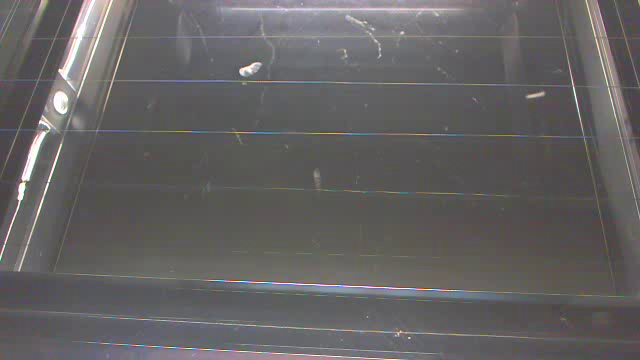alpha: (239, 61, 263, 77), (524, 92, 547, 100)
